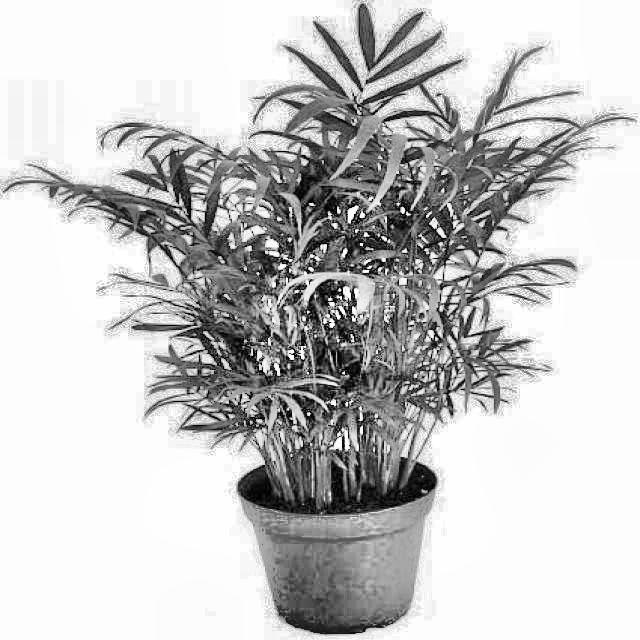plants: (76, 14, 468, 471)
